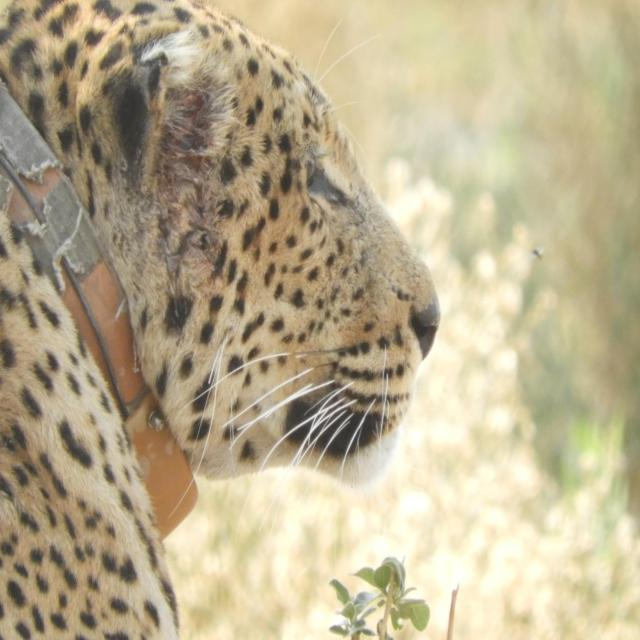Leopard: (0, 0, 441, 640)
